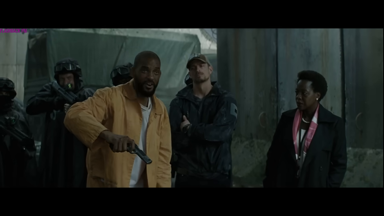firearm: (108, 140, 155, 165), (48, 75, 81, 106)
